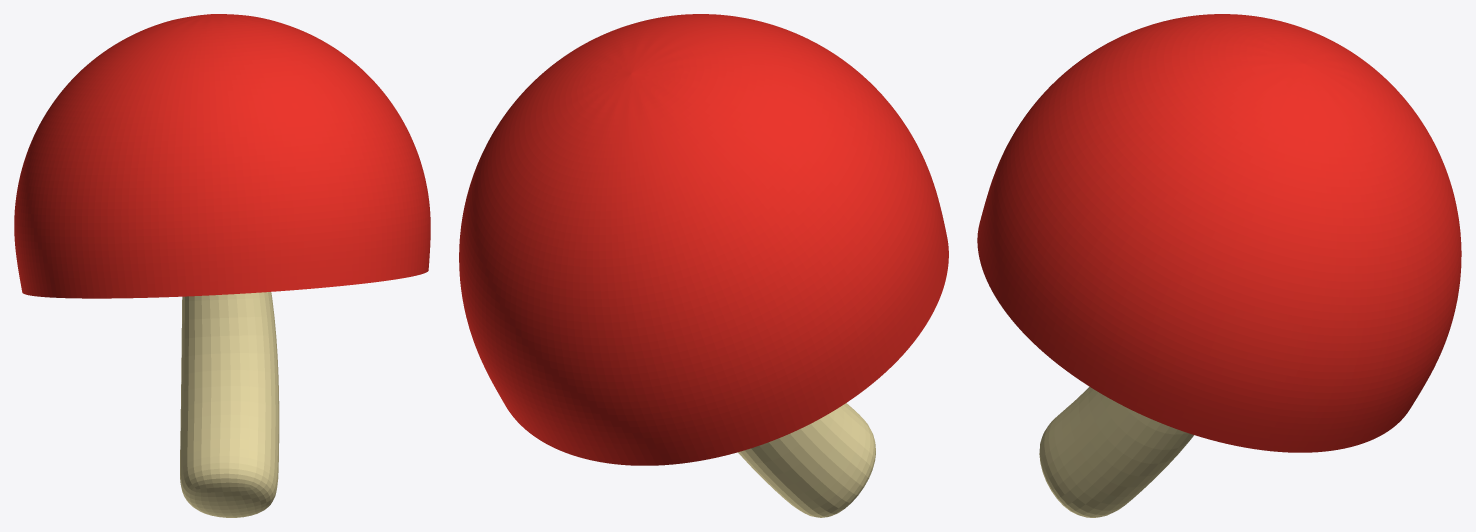
File: samplemushroom.fbx
3 renders of one model, left to right at view 1: azimuth 30°, elevation 25°; view 2: azimuth 150°, elevation 25°; view 3: azimuth 270°, elevation 25°, orthographic. The views are drawn at different scales.
Visible parts, largest first — view 1: Cube; view 2: Cube; view 3: Cube.
Boxes of the visible parts, x1,y1,x2,y2 form: Cube: (14,14,430,517); Cube: (459,14,948,517); Cube: (977,14,1461,517).
Bounding box in the file's own units: 65.83 × 75.62 × 66.05.
